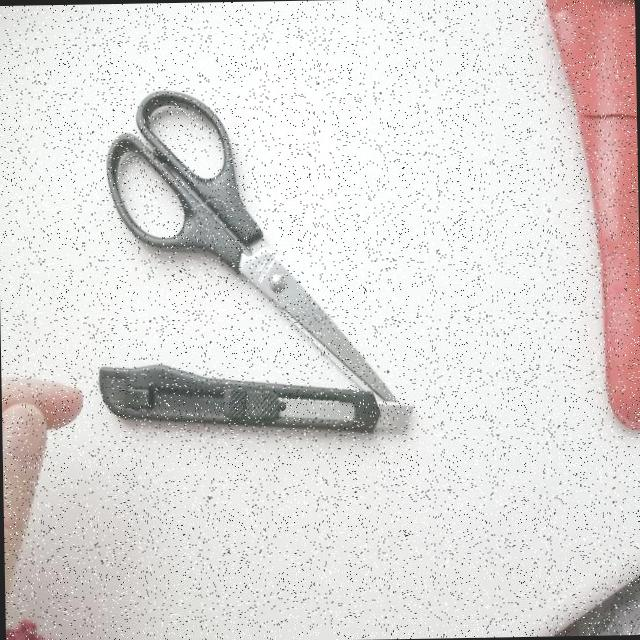scissors: (95, 62, 414, 434)
